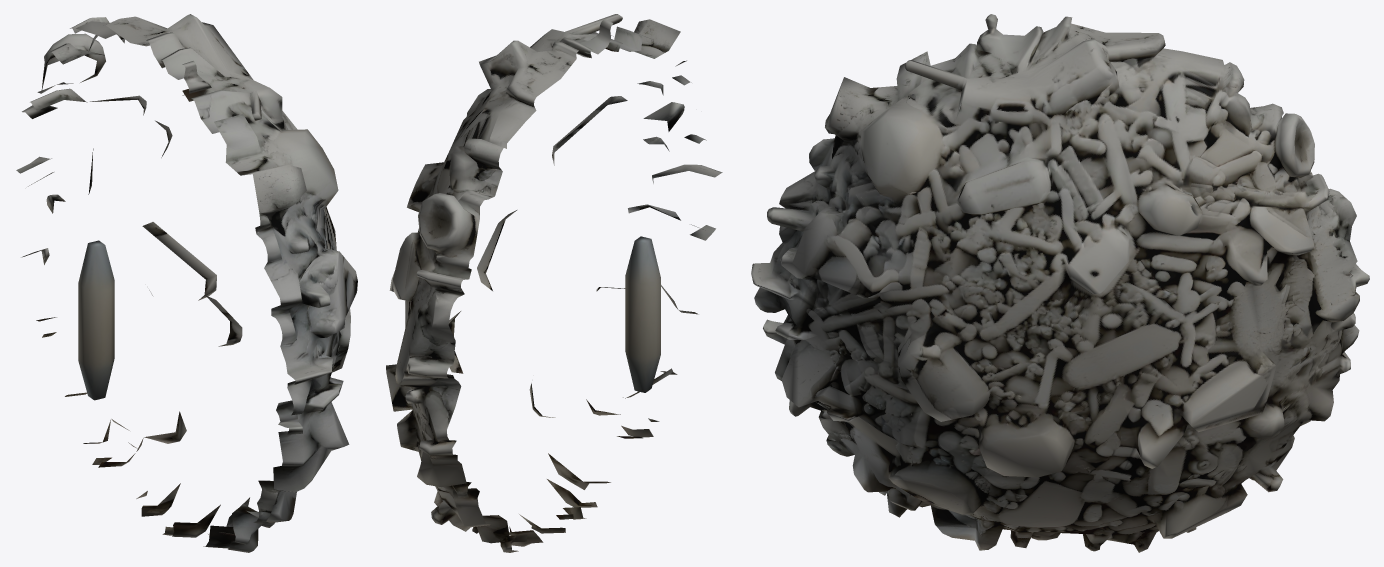
File: ball_lint.glb
3 renders of one model, left to right at view 1: azimuth 30°, elevation 25°; view 2: azimuth 150°, elevation 25°; view 3: azimuth 270°, elevation 25°, orthographic. The views are drawn at different scales.
Parts seen in each view (by area): view 1: tripo_node_a85be426-ff10-475d-b094-7a340edad719; view 2: tripo_node_a85be426-ff10-475d-b094-7a340edad719; view 3: tripo_node_a85be426-ff10-475d-b094-7a340edad719.
Boxes of the visible parts, bbox=[...] form: tripo_node_a85be426-ff10-475d-b094-7a340edad719: bbox=[16, 14, 357, 552]; tripo_node_a85be426-ff10-475d-b094-7a340edad719: bbox=[386, 14, 722, 552]; tripo_node_a85be426-ff10-475d-b094-7a340edad719: bbox=[751, 14, 1369, 552].
Size of the model in its own units: 0.438 by 0.9224 by 0.9839.
Materials: 1 (1 with a texture image).
